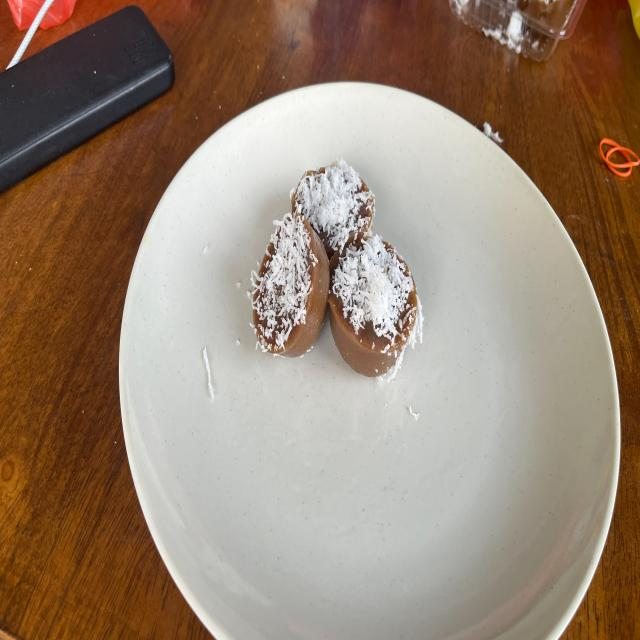Kuih lompang: (291, 160, 419, 376), (251, 211, 330, 356), (291, 160, 375, 276)
